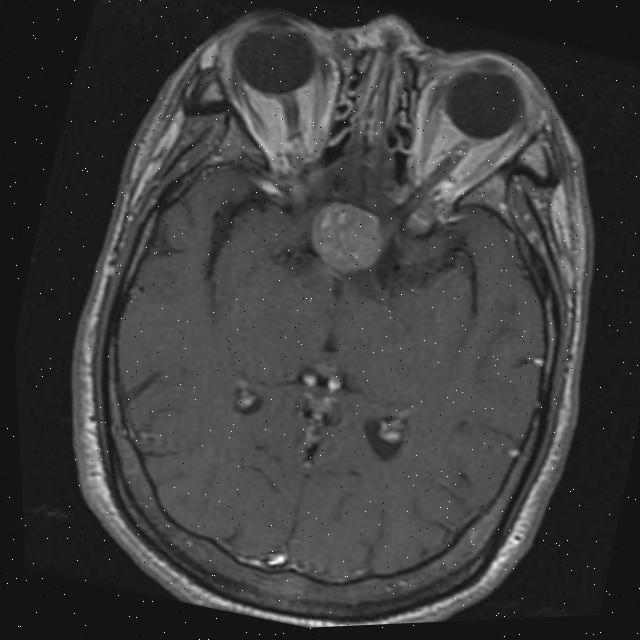Pituitary: (301, 194, 392, 282)
